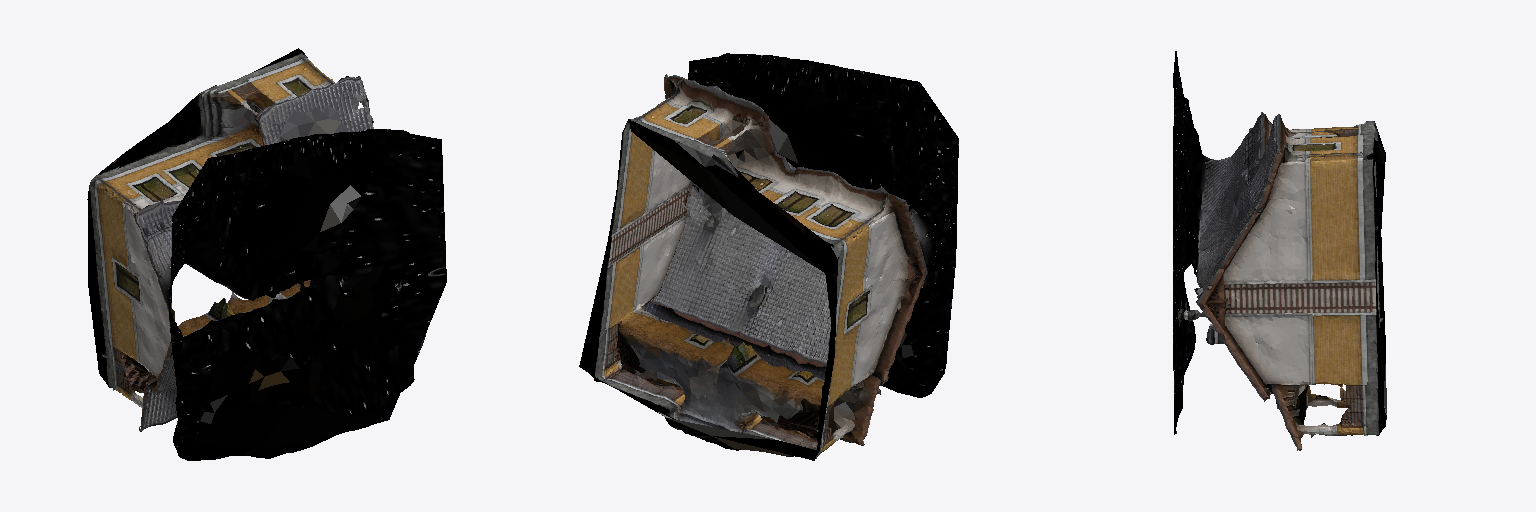
3 renders of one model, left to right at view 1: azimuth 30°, elevation 25°; view 2: azimuth 150°, elevation 25°; view 3: azimuth 270°, elevation 25°, orthographic.
Visible parts, largest first — view 1: Group_Global; view 2: Group_Global; view 3: Group_Global.
Part boxes in pixels (x1,y1,x2,y2): Group_Global: (87, 48, 446, 460); Group_Global: (579, 53, 958, 460); Group_Global: (1173, 51, 1386, 450).
Bounding box in the file's own units: 11.86 × 13.23 × 7.99.
Materials: 1 (1 with a texture image).